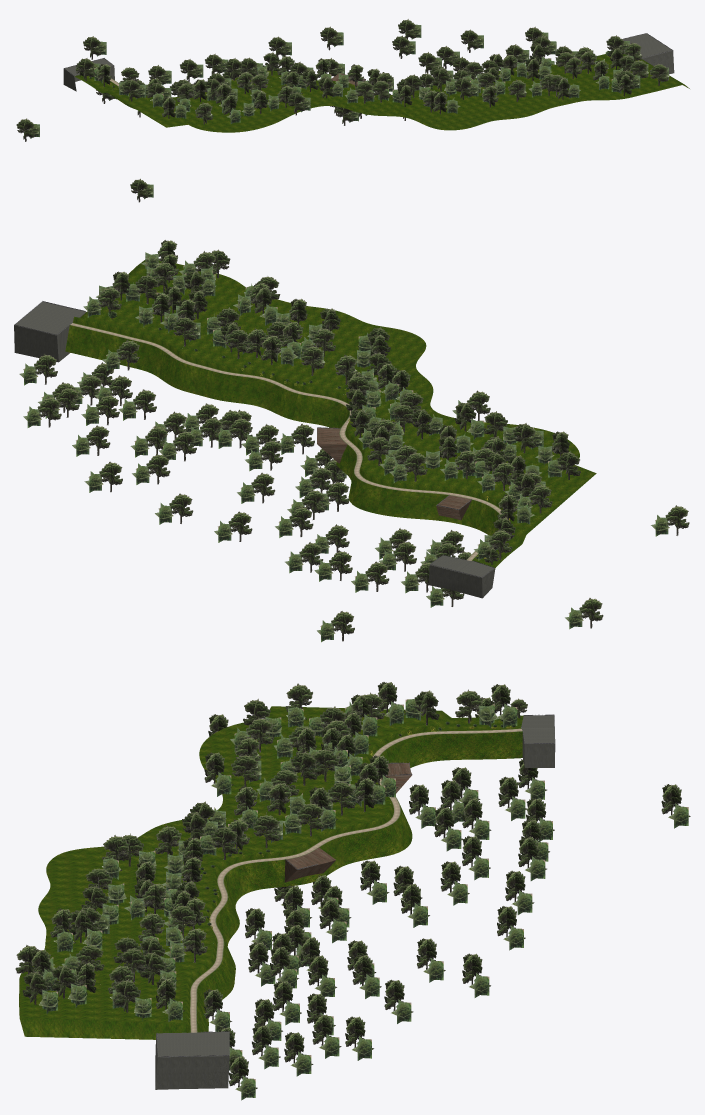
Rendered from mountain.glb.
3 views of the same model, one above another, from view 1: azimuth 30°, elevation 25°; view 2: azimuth 150°, elevation 25°; view 3: azimuth 270°, elevation 25° (orthographic). The views are drawn at different scales.
Parts seen in each view (by area): view 1: Plane; view 2: Plane; view 3: Plane.
Part boxes in pixels (left/top/right/bottom): Plane: left=63, top=33, right=689, bottom=132; Plane: left=14, top=260, right=596, bottom=598; Plane: left=19, top=706, right=555, bottom=1089.
Size of what is drawn, in the model's own units: 1649 by 213 by 1203.
10 materials, 10 textured.
